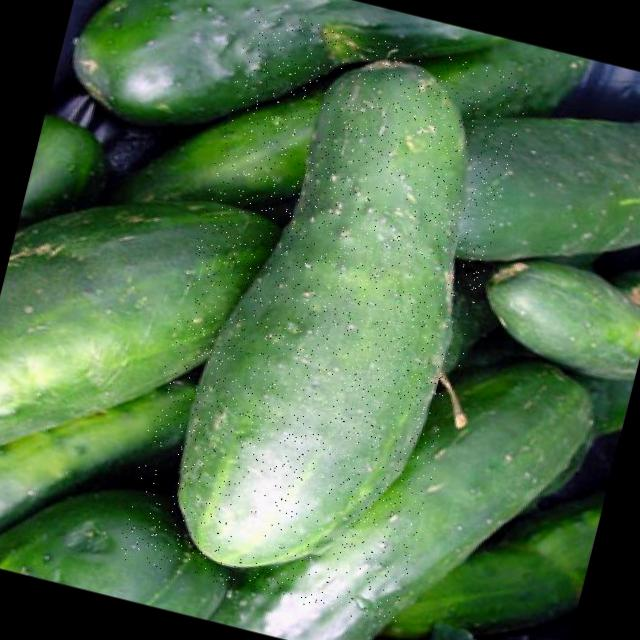Cucumber: (168, 43, 507, 593), (0, 160, 283, 529), (0, 337, 203, 603), (62, 0, 370, 166)
